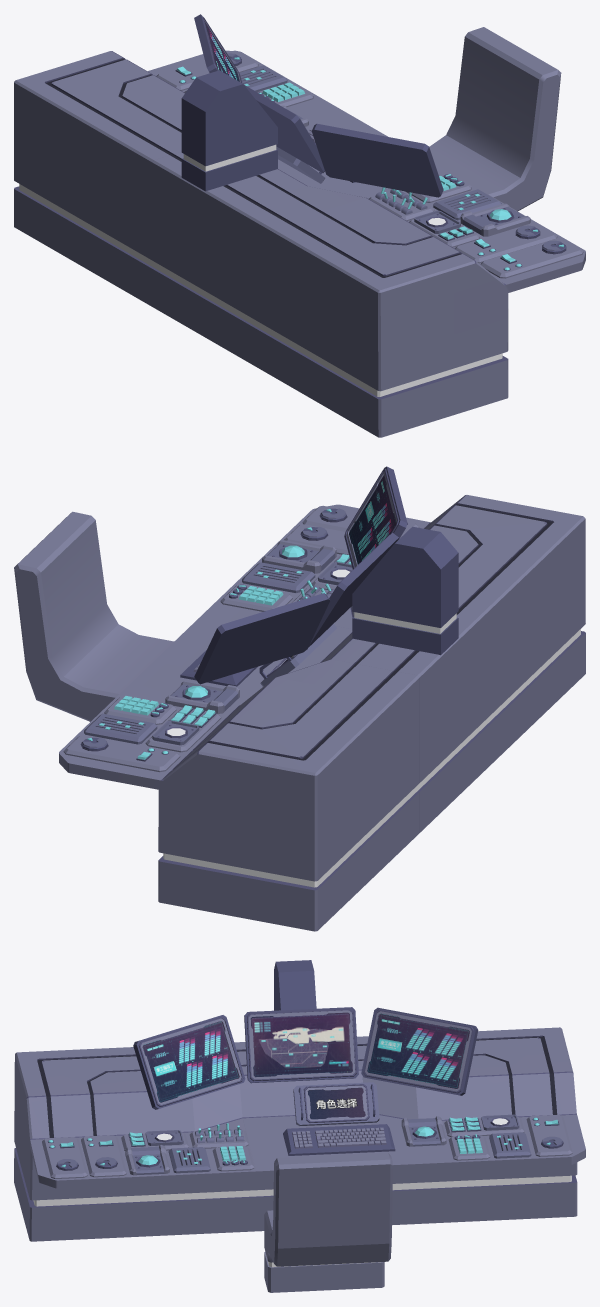
File: tableSideB.fbx
3 views of the same model, one above another, from view 1: azimuth 30°, elevation 25°; view 2: azimuth 150°, elevation 25°; view 3: azimuth 270°, elevation 25° (orthographic). The views are drawn at different scales.
Parts seen in each view (by area): view 1: tableSideB; view 2: tableSideB; view 3: tableSideB.
Part boxes in pixels (x1,y1,x2,y2): tableSideB: [14, 14, 585, 437]; tableSideB: [14, 466, 585, 931]; tableSideB: [14, 960, 585, 1292].
Size of the model in its own units: 1.55 by 0.92 by 2.22.
